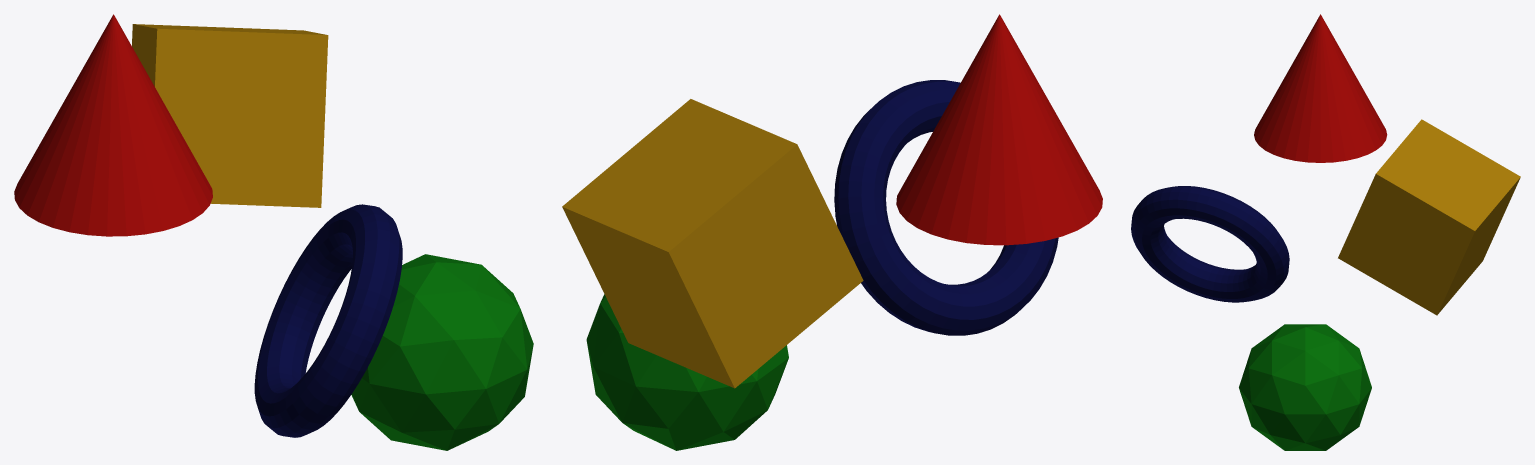
File: coloredobjects.obj
3 renders of one model, left to right at view 1: azimuth 30°, elevation 25°; view 2: azimuth 150°, elevation 25°; view 3: azimuth 270°, elevation 25°, orthographic. The views are drawn at different scales.
Visible parts, largest first — view 1: Cube, Cone, Icosphere, Torus; view 2: Cube, Cone, Torus, Icosphere; view 3: Cube, Icosphere, Cone, Torus.
Part boxes in pixels (left/top/right/bottom): Cube: left=132, top=24, right=328, bottom=207; Cone: left=14, top=14, right=212, bottom=236; Icosphere: left=351, top=254, right=533, bottom=450; Torus: left=254, top=204, right=402, bottom=437; Cube: left=562, top=99, right=863, bottom=388; Cone: left=896, top=14, right=1102, bottom=245; Torus: left=834, top=80, right=1058, bottom=335; Icosphere: left=586, top=294, right=788, bottom=450; Cube: left=1338, top=119, right=1520, bottom=315; Icosphere: left=1239, top=324, right=1371, bottom=450; Cone: left=1254, top=14, right=1387, bottom=162; Torus: left=1131, top=186, right=1289, bottom=302.
Size of the model in its own units: 5.56 by 5.5 by 5.85.
